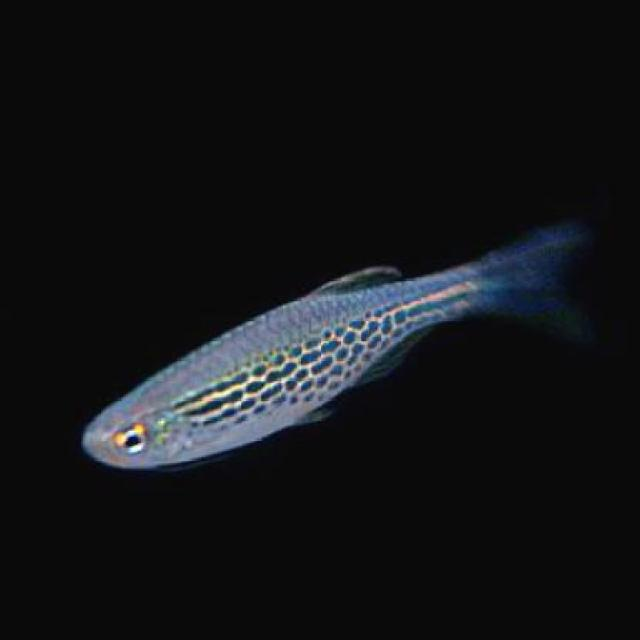ZebraFish: (88, 230, 568, 462)
